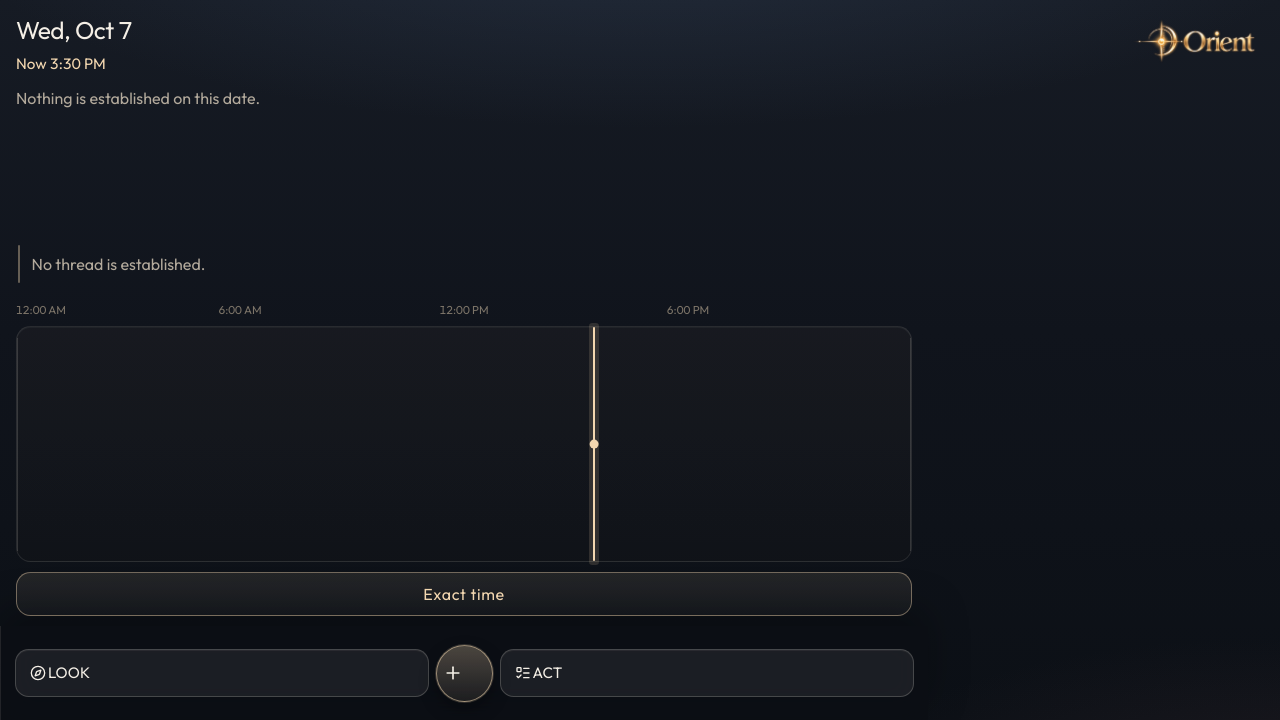
LOOK · ADD · ACT phone grammar › closing phone LOOK without changes preserves Question anchor and Focus
The image size is (1280, 720).
Step 1. Click the button "LOOK" → coordinates (69, 672), box [15,649,429,697]
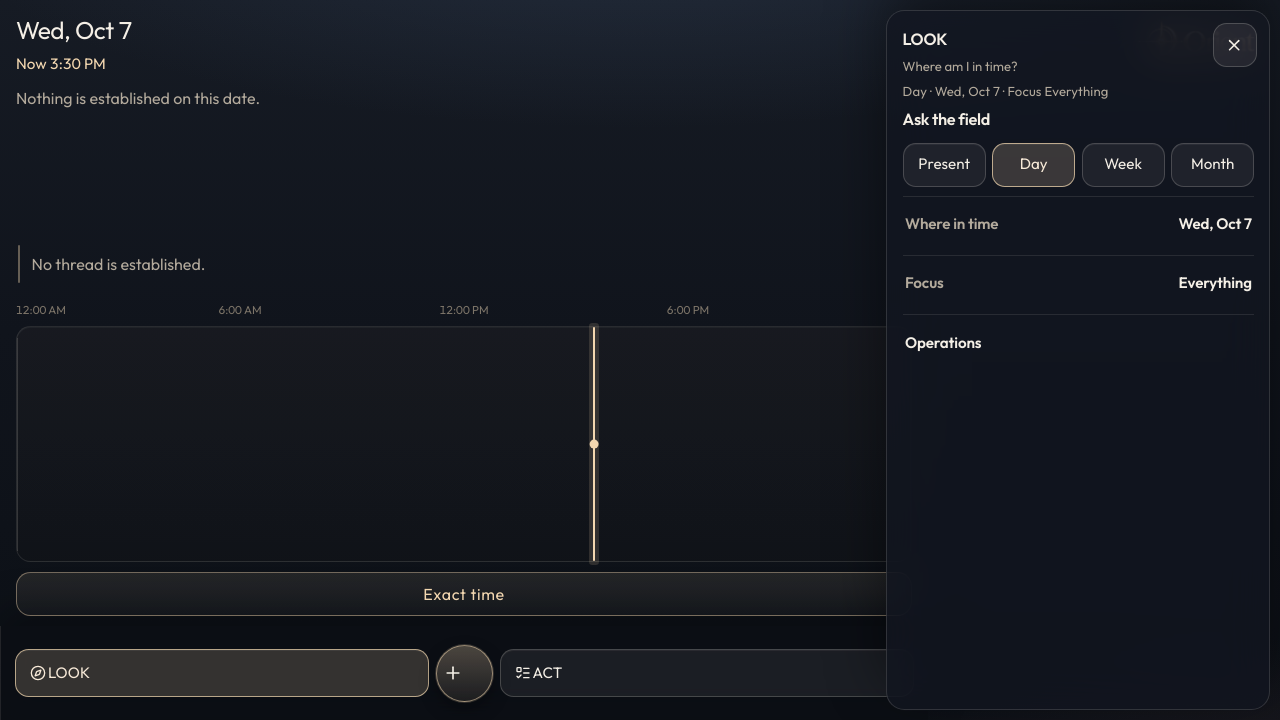
Step 2. Click the button named "Close LOOK" → coordinates (1235, 45), box [1213,23,1257,67]
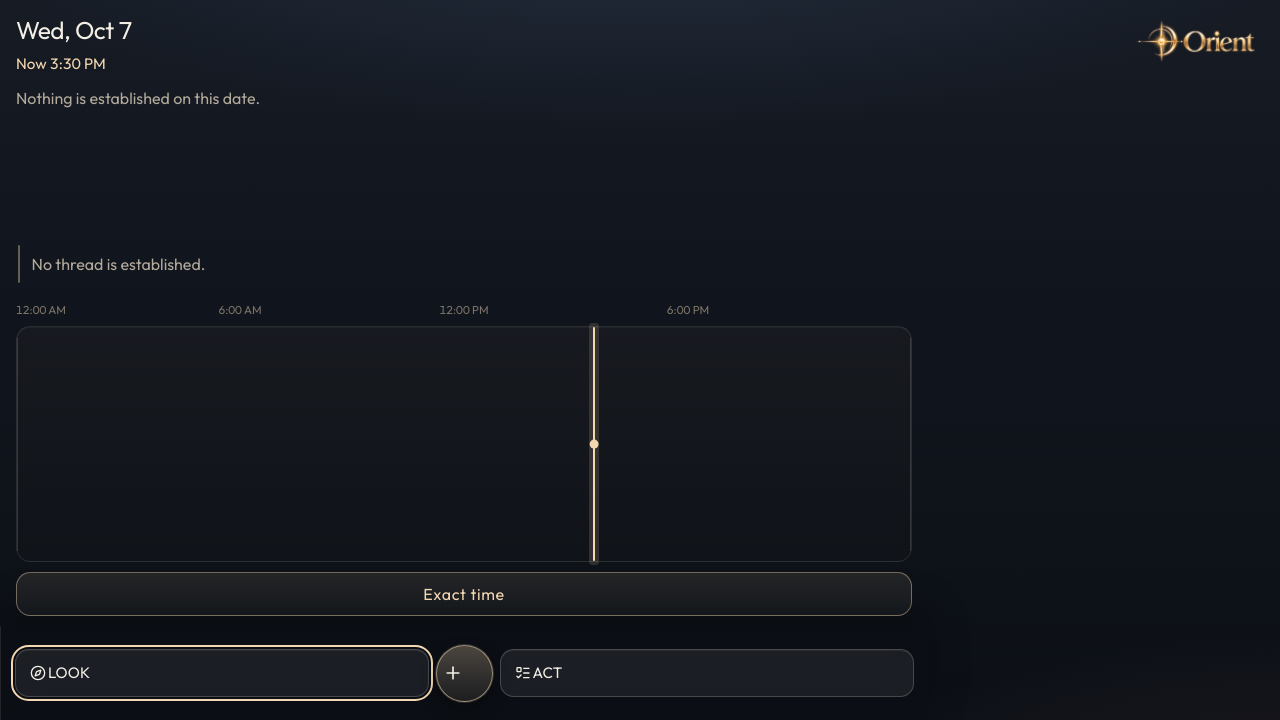
Step 3. Click the button "LOOK" → coordinates (69, 672), box [15,649,429,697]
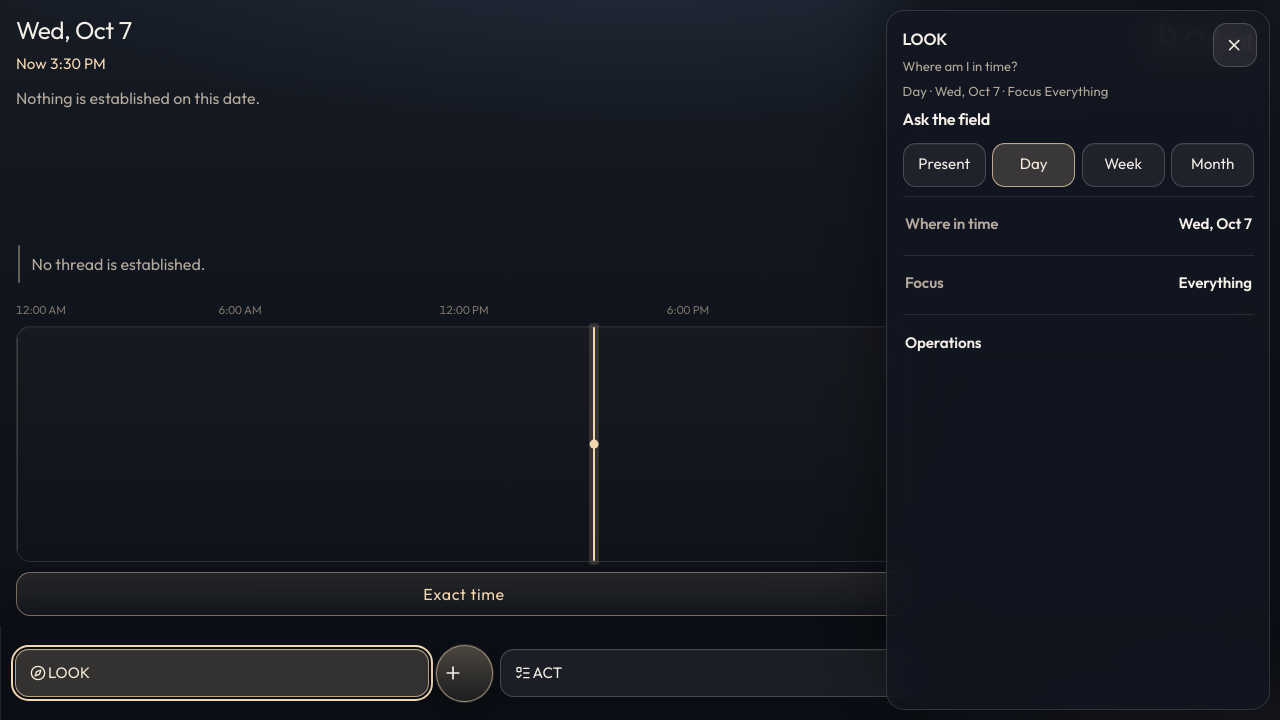
Expected: the text "Everything" is shown, [1179,272,1252,295]
Expected: the text "Day · Wed, Oct 7 · Focus Everything" is shown, [903,82,1108,102]
